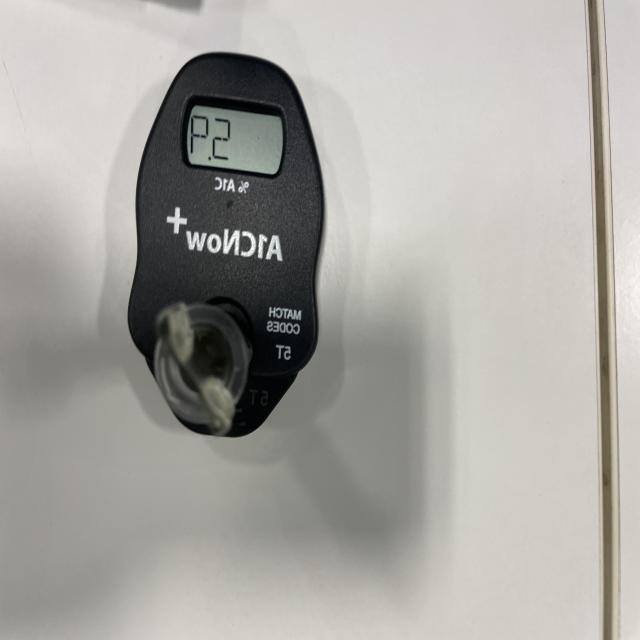hba1c: (124, 52, 327, 440)
